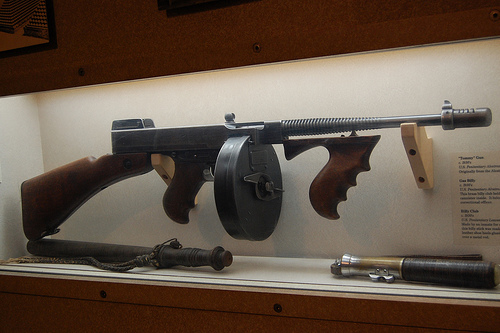rifle: (20, 92, 494, 273)
